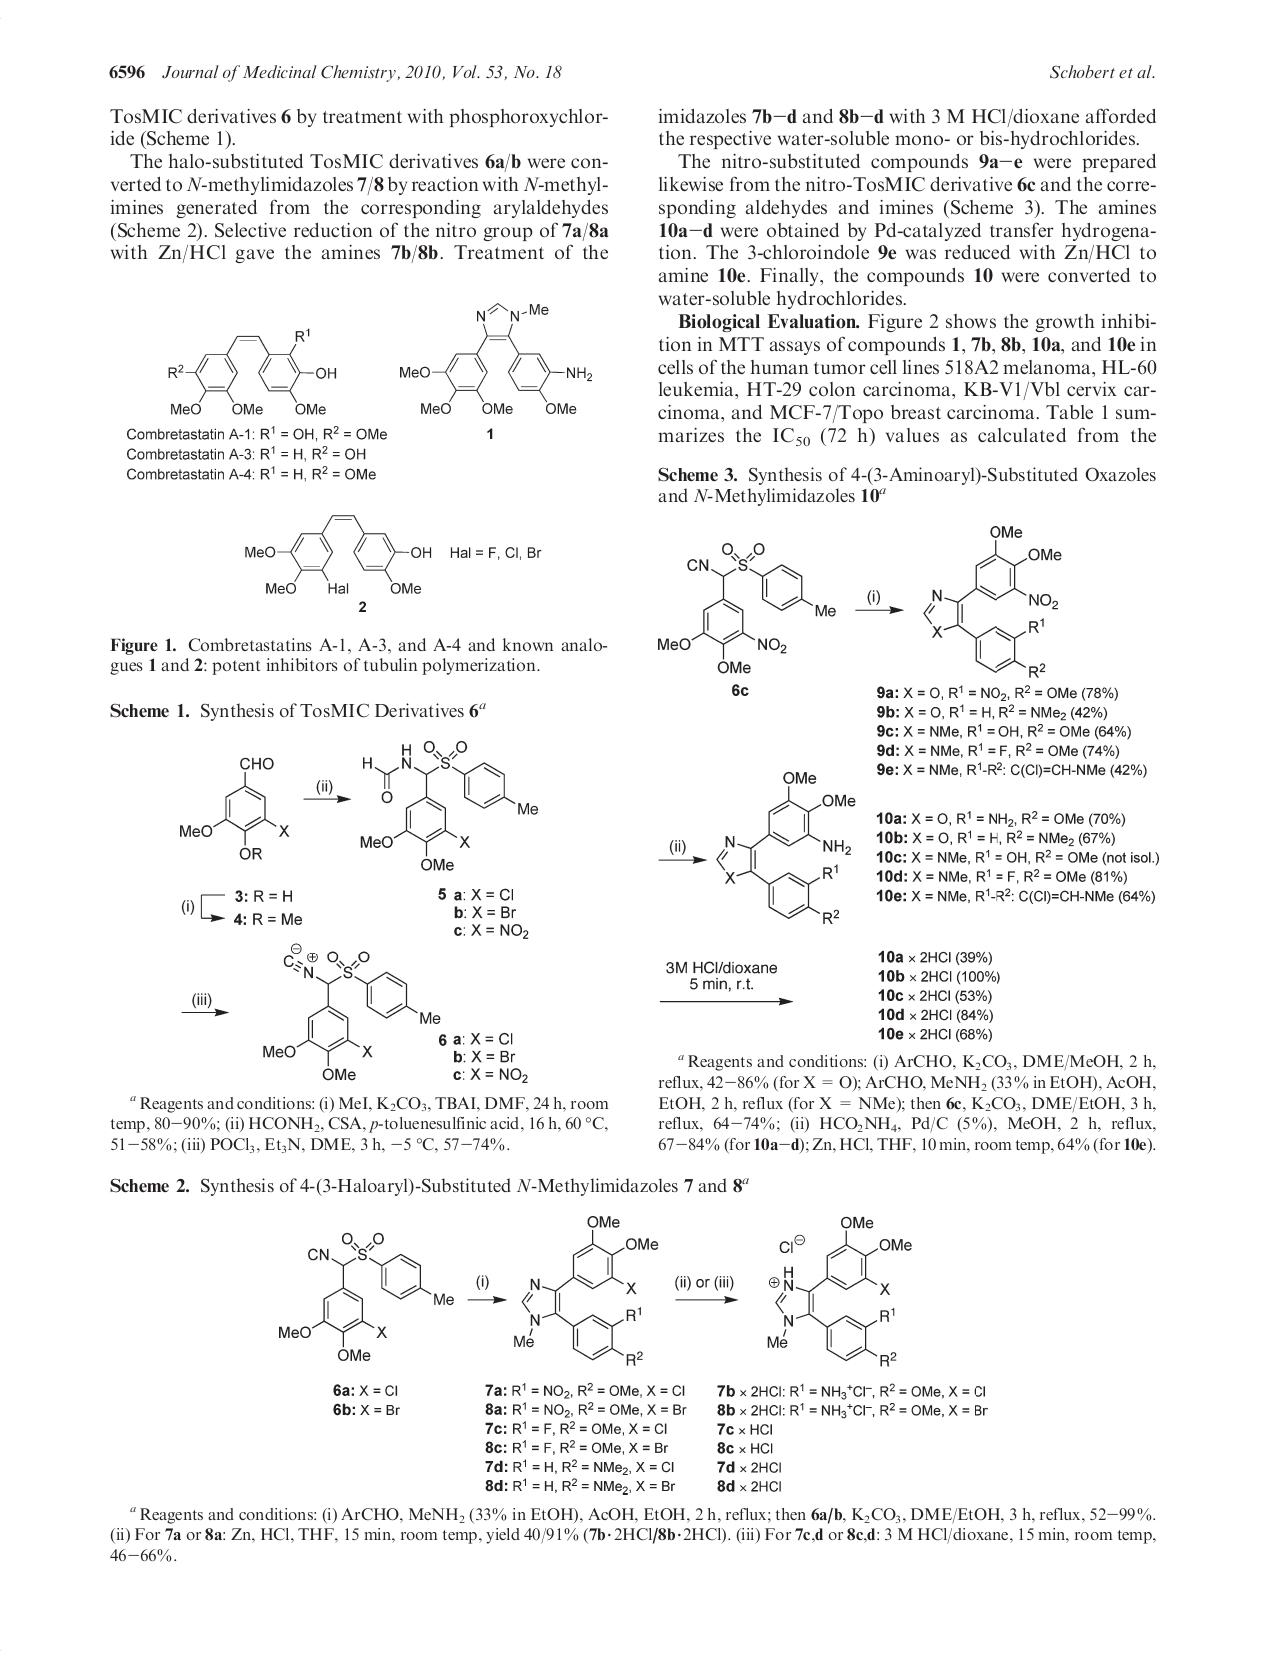exist_molecular: (356, 735, 539, 872), (263, 942, 442, 1081), (277, 1229, 456, 1363), (656, 543, 836, 674), (399, 301, 594, 418), (765, 1216, 914, 1368), (513, 1213, 660, 1367), (713, 770, 858, 924), (924, 521, 1060, 678), (245, 511, 434, 596), (166, 327, 340, 419), (180, 755, 297, 860)
